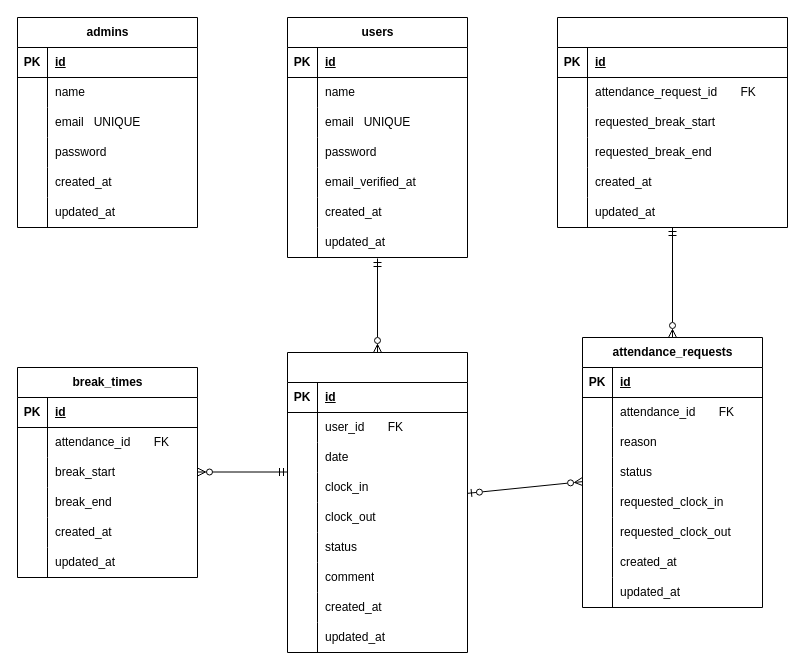
This 805x670 diagram has some shape labels left out. Here are the shapes that lost their labels. From the top down, the box of each, then its label:
(556, 16, 788, 228): break_requests
(286, 352, 468, 652): attendances
